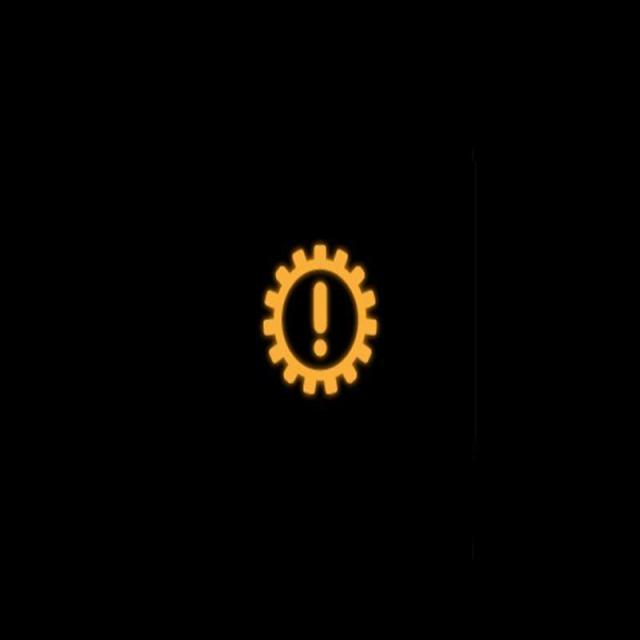kontrolka: (240, 220, 390, 418)
